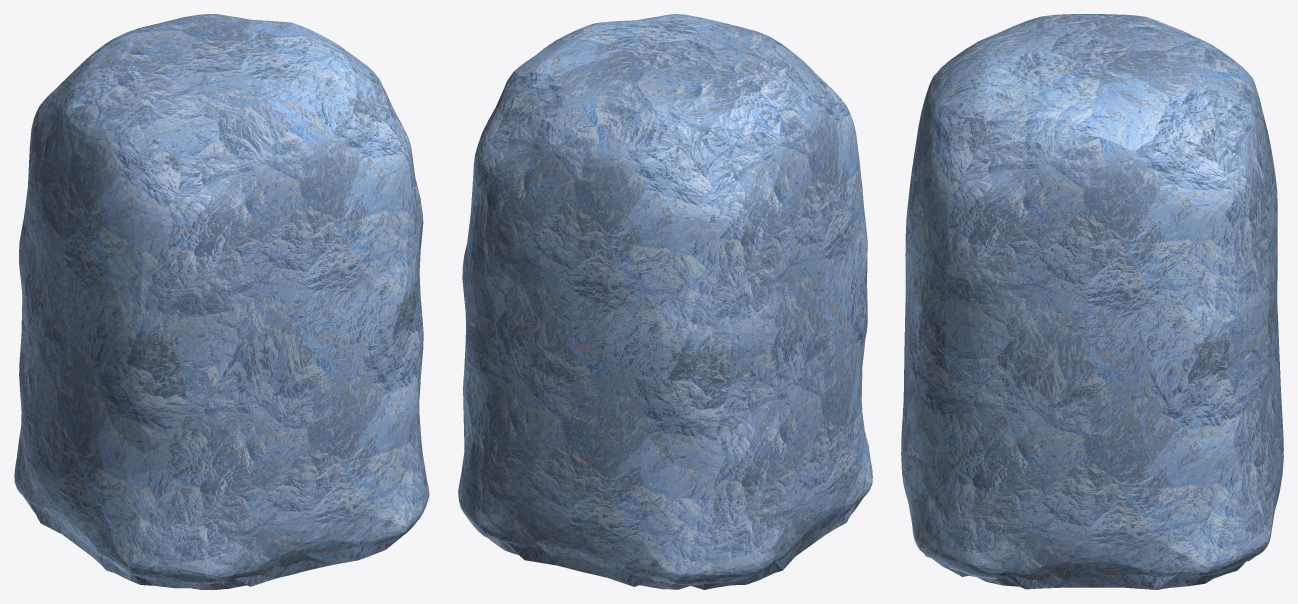
Rendered from IceBlock.obj.
The picture shows the model from 3 angles, left to right: view 1: azimuth 30°, elevation 25°; view 2: azimuth 150°, elevation 25°; view 3: azimuth 270°, elevation 25°; orthographic projection.
Visible parts, largest first — view 1: IceBlock; view 2: IceBlock; view 3: IceBlock.
Part boxes in pixels (box(x1,y1,x2,y2)): IceBlock: box(14, 14, 429, 589); IceBlock: box(458, 14, 872, 589); IceBlock: box(901, 14, 1283, 589).
Size of the model in its own units: 0.789 by 1.06 by 0.7894.
Materials: 1 (1 with a texture image).
